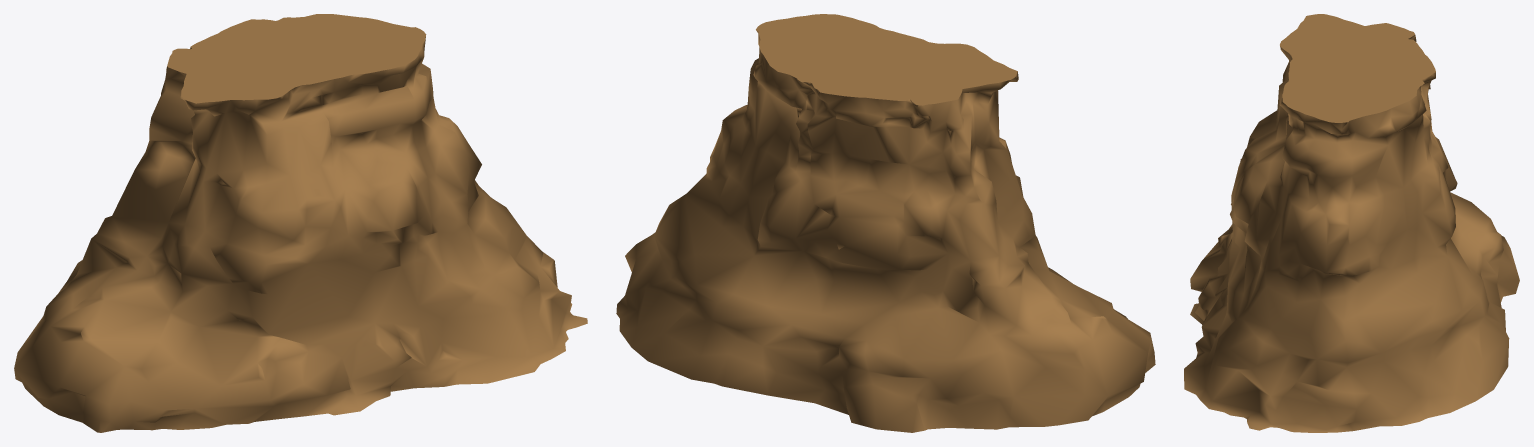
Rendered from Cliff_Pirock01.FBX.
The picture shows the model from 3 angles, left to right: view 1: azimuth 30°, elevation 25°; view 2: azimuth 150°, elevation 25°; view 3: azimuth 270°, elevation 25°; orthographic projection. The views are drawn at different scales.
Visible parts, largest first — view 1: Cliff_Pirock01; view 2: Cliff_Pirock01; view 3: Cliff_Pirock01.
Part boxes in pixels (bbox=[...]): Cliff_Pirock01: bbox=[14, 14, 587, 432]; Cliff_Pirock01: bbox=[616, 14, 1155, 432]; Cliff_Pirock01: bbox=[1184, 14, 1519, 432].
Size of the model in its own units: 3173 by 1677 by 2002.
